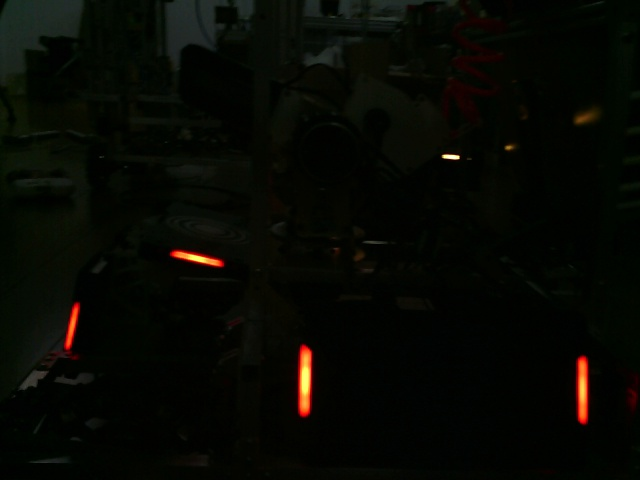lamp: (295, 341, 315, 423), (574, 350, 592, 430), (60, 300, 81, 356)
